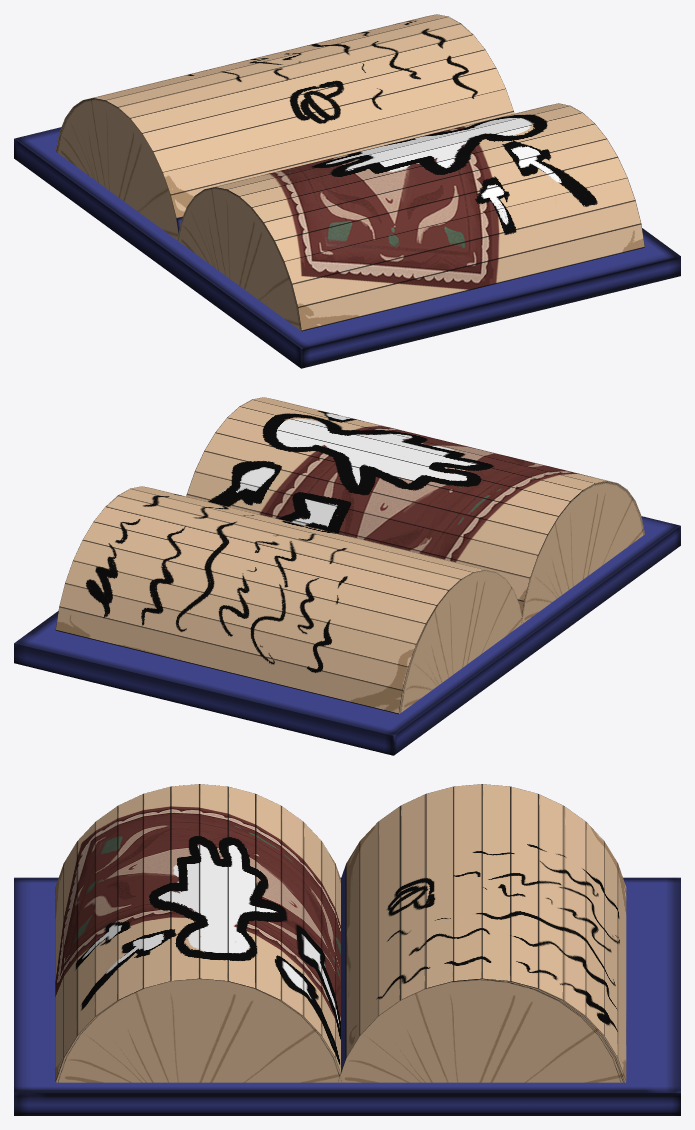
The model's file is openbook.fbx.
3 renders of one model, top to bottom at view 1: azimuth 30°, elevation 25°; view 2: azimuth 150°, elevation 25°; view 3: azimuth 270°, elevation 25°, orthographic. The views are drawn at different scales.
Parts seen in each view (by area): view 1: Cube; view 2: Cube; view 3: Cube.
Part boxes in pixels (box(x1,y1,x2,y2)): Cube: box(14, 14, 680, 368); Cube: box(14, 397, 680, 755); Cube: box(14, 784, 680, 1115).
Bounding box in the file's own units: 162 × 45.08 × 212.
